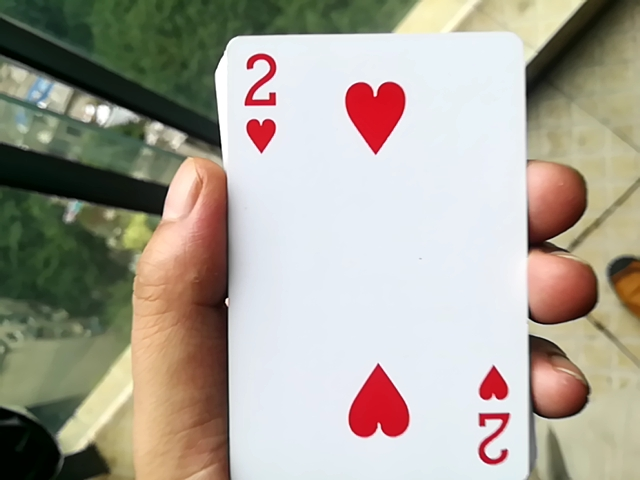hx 2: (200, 31, 540, 478)
